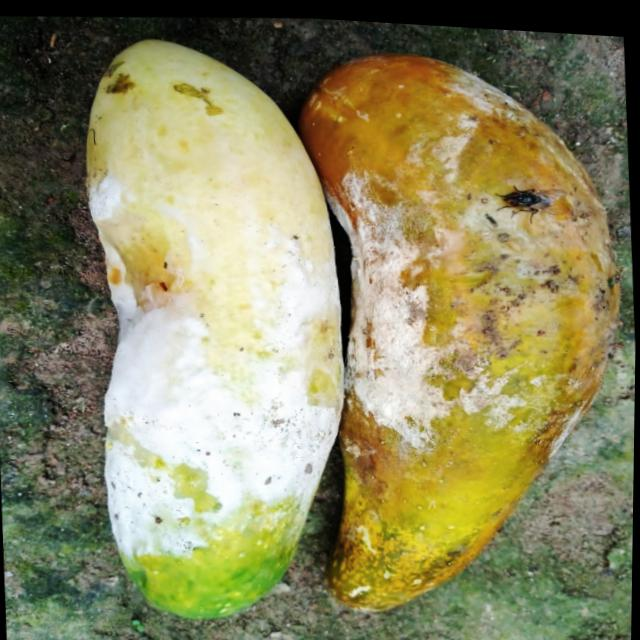Pythium-Fruit-Rot: (62, 75, 366, 576), (312, 47, 636, 472)
